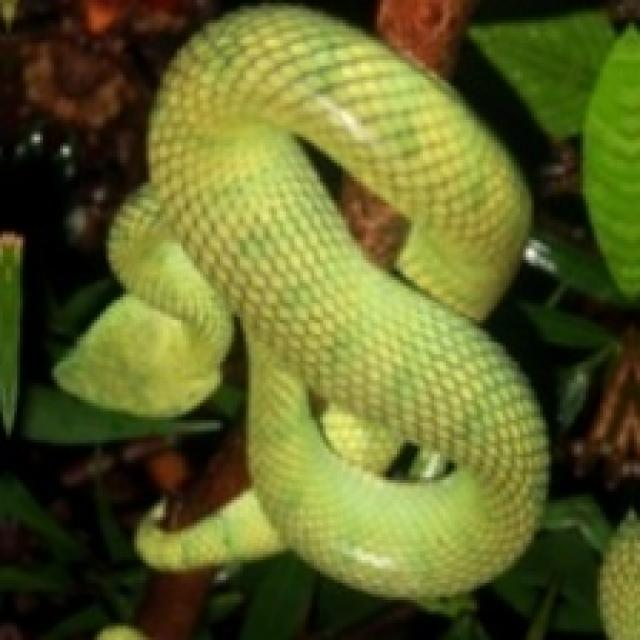north ph temple pitviper: (54, 6, 546, 597)
